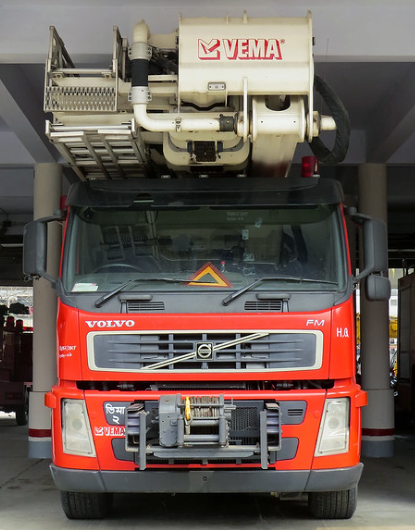Fire truck: (41, 11, 366, 530)
